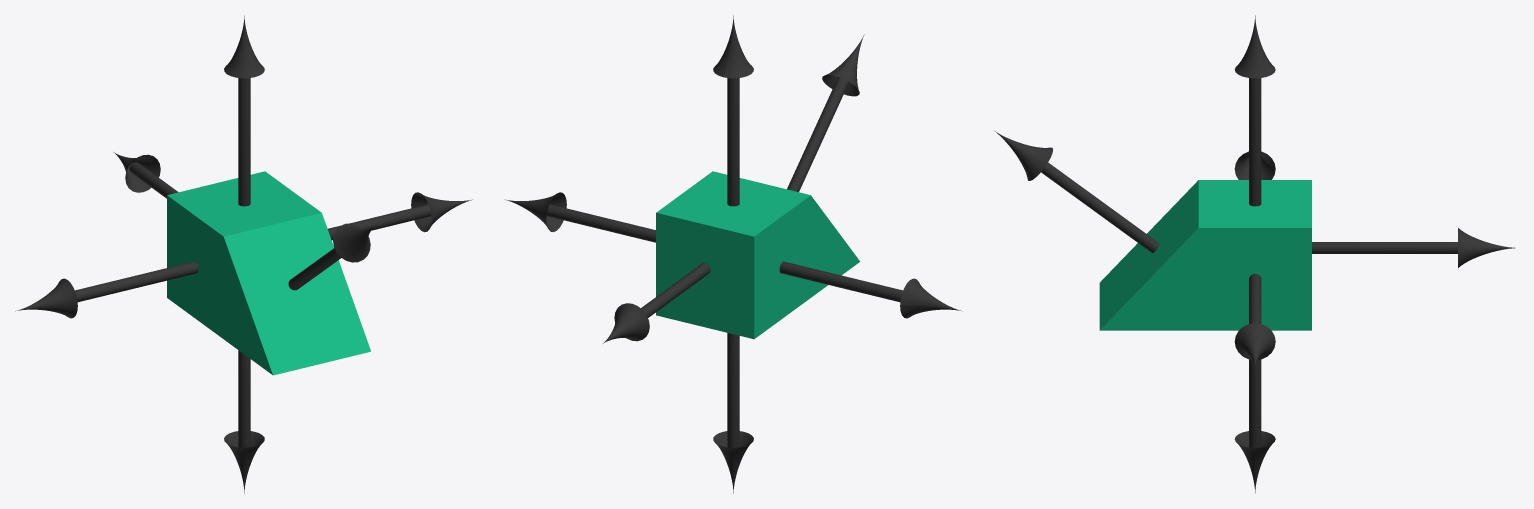
The model's file is 06_Area vectors for object.glb.
The picture shows the model from 3 angles, left to right: view 1: azimuth 30°, elevation 25°; view 2: azimuth 150°, elevation 25°; view 3: azimuth 270°, elevation 25°; orthographic projection.
Parts seen in each view (by area): view 1: Cube, Cylinder.001, Cylinder.003, Cylinder.006, Cylinder.007, Cylinder.004, Cylinder.005; view 2: Cube, Cylinder.001, Cylinder.003, Cylinder.007, Cylinder.006, Cylinder.004, Cylinder.005; view 3: Cube, Cylinder.007, Cylinder.001, Cylinder.005, Cylinder.006, Cylinder.004, Cylinder.003.
Boxes of the visible parts, left/top/right/bottom form: Cube: left=167, top=171, right=370, bottom=375; Cylinder.001: left=224, top=15, right=264, bottom=206; Cylinder.003: left=15, top=261, right=198, bottom=318; Cylinder.006: left=224, top=350, right=264, bottom=493; Cylinder.007: left=288, top=223, right=374, bottom=290; Cylinder.004: left=327, top=192, right=472, bottom=240; Cylinder.005: left=113, top=152, right=178, bottom=198; Cube: left=656, top=171, right=860, bottom=339; Cylinder.001: left=713, top=15, right=753, bottom=206; Cylinder.003: left=779, top=261, right=962, bottom=318; Cylinder.007: left=787, top=34, right=864, bottom=192; Cylinder.006: left=713, top=333, right=753, bottom=493; Cylinder.004: left=505, top=192, right=655, bottom=242; Cylinder.005: left=603, top=263, right=710, bottom=343; Cube: left=1099, top=180, right=1311, bottom=330; Cylinder.007: left=995, top=131, right=1159, bottom=253; Cylinder.001: left=1234, top=15, right=1275, bottom=206; Cylinder.005: left=1312, top=228, right=1514, bottom=267; Cylinder.006: left=1234, top=359, right=1275, bottom=493; Cylinder.004: left=1234, top=273, right=1275, bottom=366; Cylinder.003: left=1234, top=151, right=1275, bottom=179.
Bounding box in the file's own units: 9.38 × 9.37 × 9.31.
